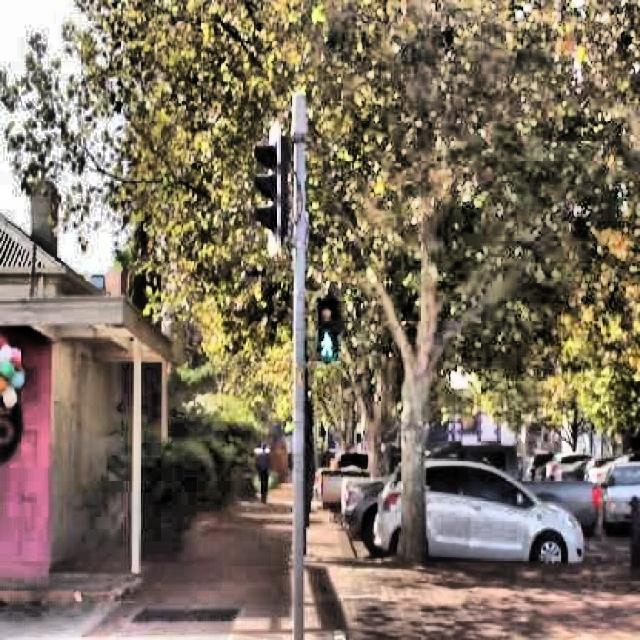semaforo pedestre: (292, 284, 356, 394)
